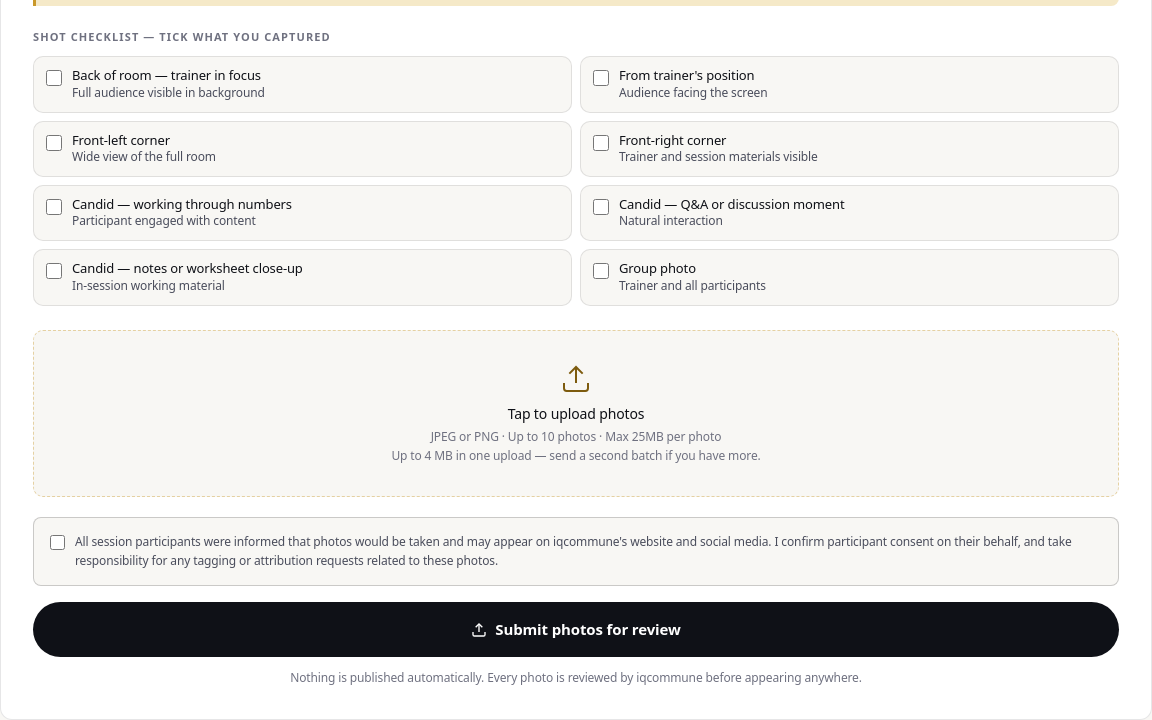
Test: PhotoSubmissionForm › refuses to submit without photos or without consent
This screenshot has width=1152, height=720.
(page scrolled)
Step 1. Click the button "Submit photos for review" → (576, 630), box left=33, top=602, right=1119, bottom=657
(page scrolled)
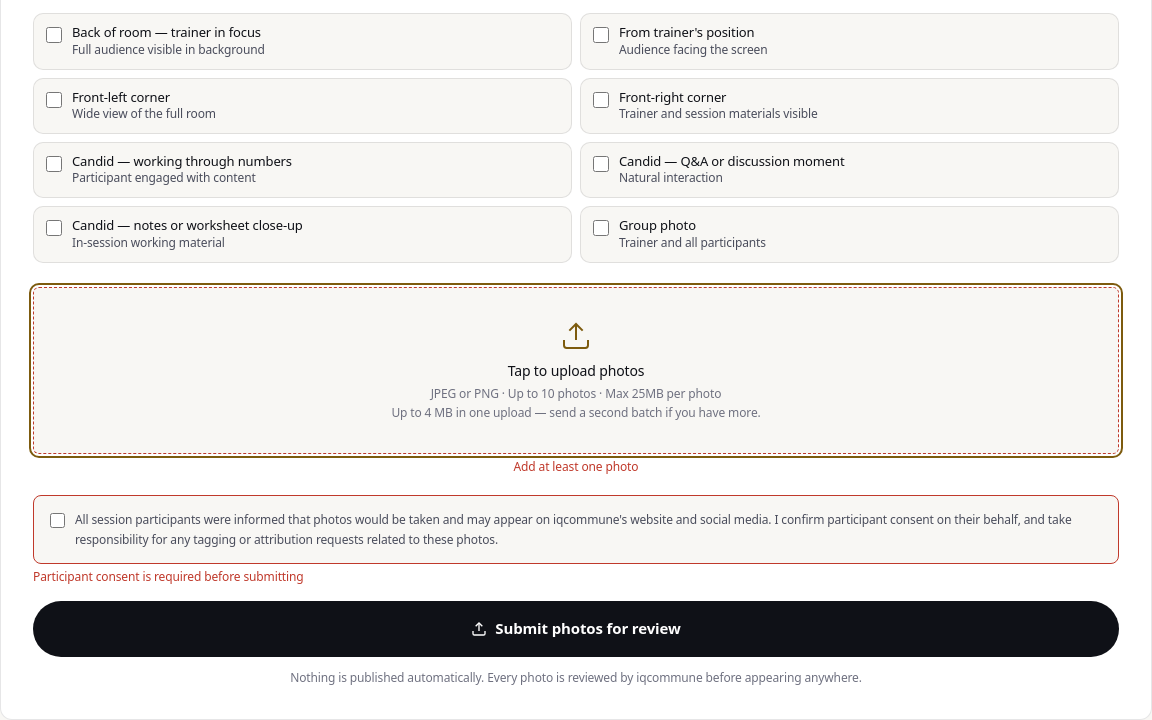
Now the text "Add at least one photo" is shown, box left=514, top=458, right=638, bottom=475
Now the text "Participant consent is required before submitting" is shown, box left=33, top=568, right=304, bottom=585
